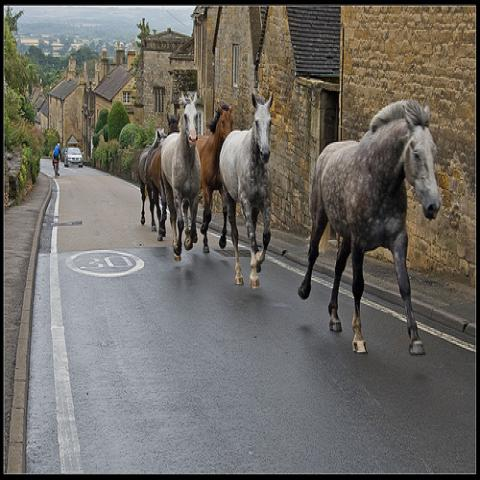car: (64, 145, 83, 169)
